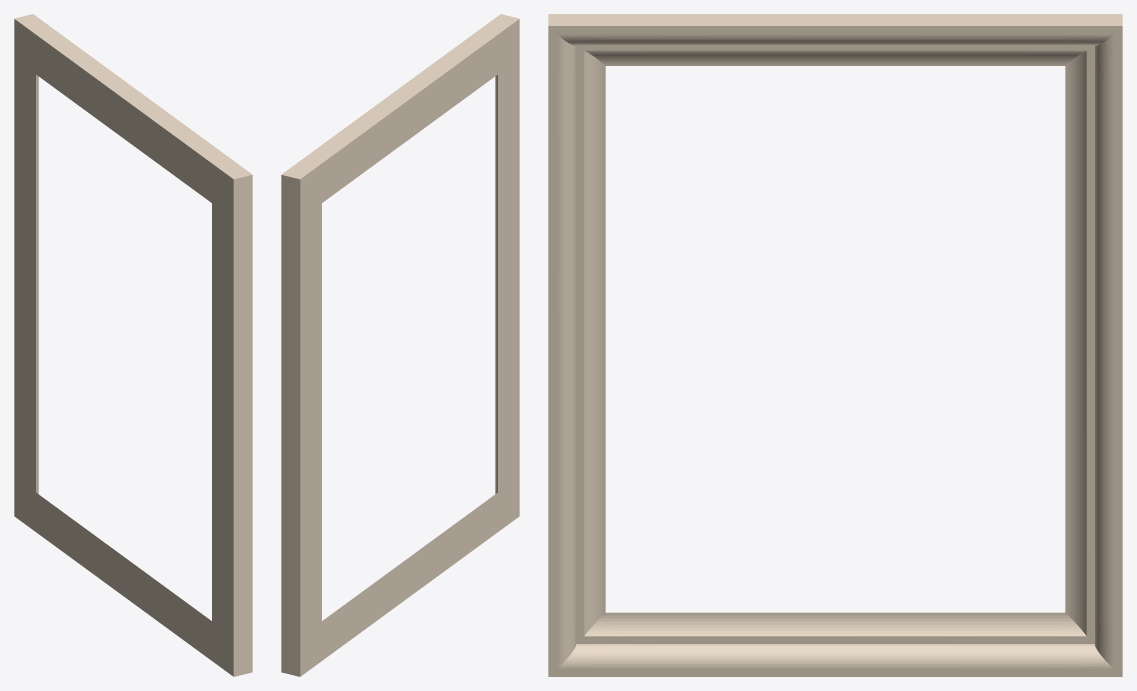
Rendered from picture frame.fbx.
3 views of the same model, side by side, from view 1: azimuth 30°, elevation 25°; view 2: azimuth 150°, elevation 25°; view 3: azimuth 270°, elevation 25° (orthographic). The views are drawn at different scales.
Visible parts, largest first — view 1: back panel.001; view 2: back panel.001; view 3: back panel.001.
Boxes of the visible parts, x1,y1,x2,y2 form: back panel.001: [14, 14, 252, 676]; back panel.001: [281, 14, 519, 676]; back panel.001: [548, 14, 1122, 676].
Bounding box in the file's own units: 1000 × 25000 × 20000.
